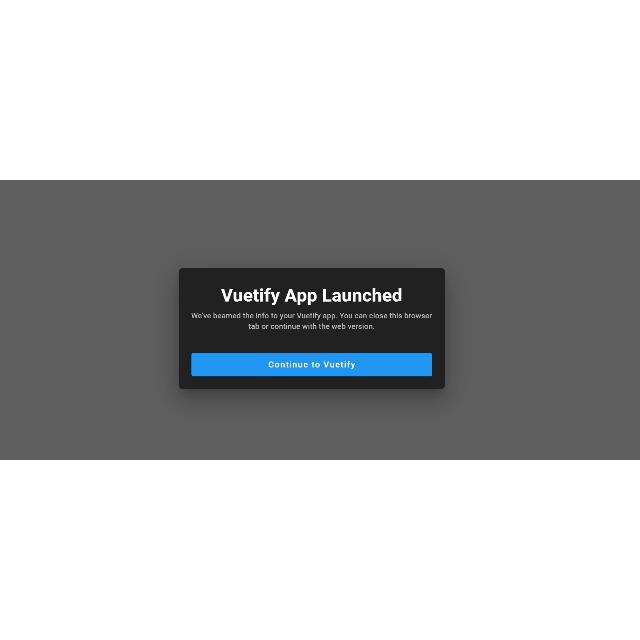QLabel: (216, 286, 400, 306), (189, 312, 433, 321), (266, 360, 358, 370), (247, 324, 376, 331)
VBtn: (190, 352, 434, 378)
VDialog: (178, 268, 446, 390)
